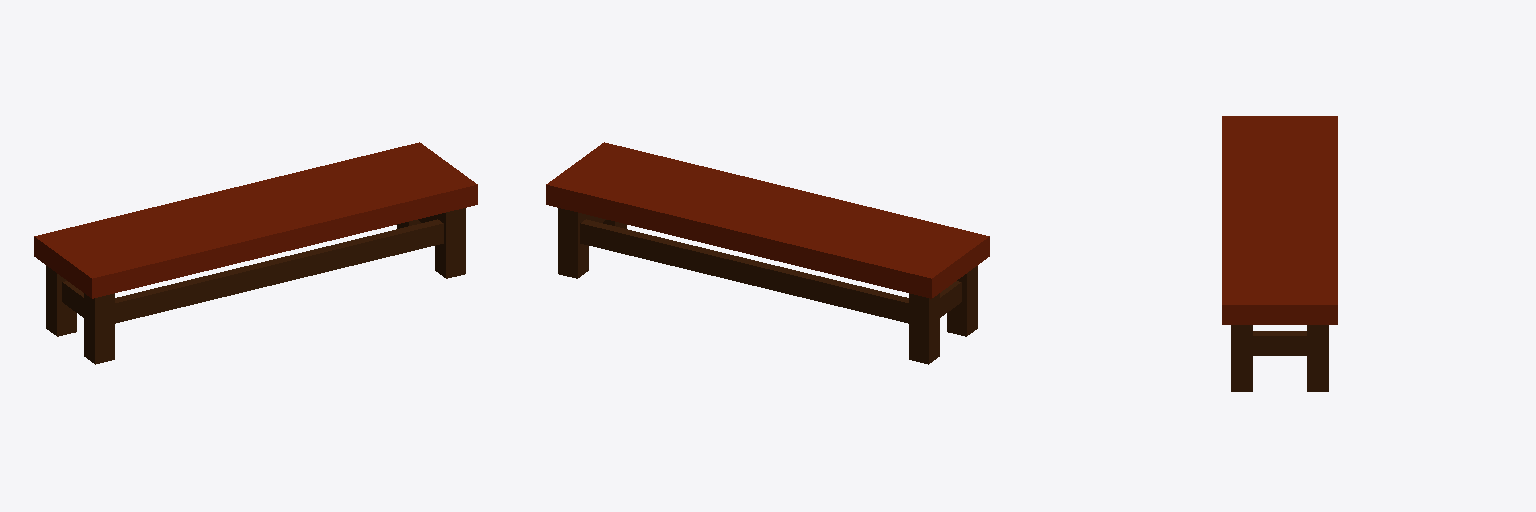
File: Bench.obj
The picture shows the model from 3 angles: view 1: azimuth 30°, elevation 25°; view 2: azimuth 150°, elevation 25°; view 3: azimuth 270°, elevation 25°; orthographic projection.
Parts seen in each view (by area): view 1: furniture_bench; view 2: furniture_bench; view 3: furniture_bench.
Part boxes in pixels (x1,y1,x2,y2): furniture_bench: (34,142,477,364); furniture_bench: (546,142,989,364); furniture_bench: (1222,116,1337,391).
Bounding box in the file's own units: 1 × 0.2255 × 0.26.